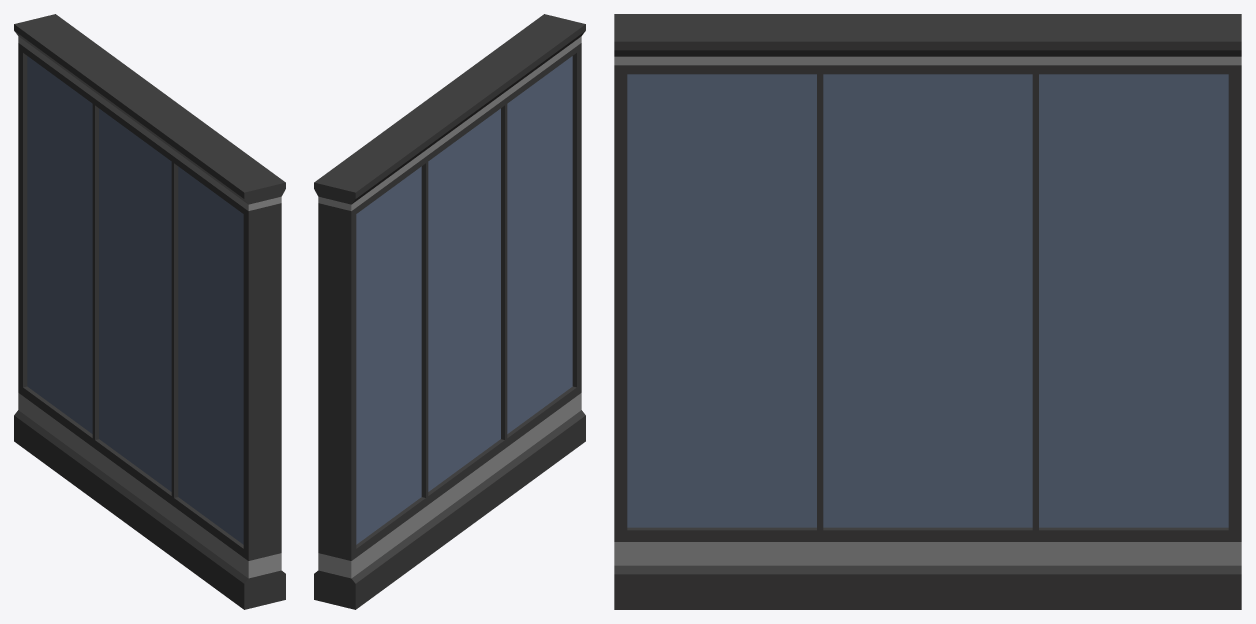
File: Neo_WallWindow_03_snaps001.fbx
3 views of the same model, side by side, from view 1: azimuth 30°, elevation 25°; view 2: azimuth 150°, elevation 25°; view 3: azimuth 270°, elevation 25° (orthographic). The views are drawn at different scales.
Parts seen in each view (by area): view 1: Neo_WallWindow_03_snaps001; view 2: Neo_WallWindow_03_snaps001; view 3: Neo_WallWindow_03_snaps001.
Boxes of the visible parts, x1,y1,x2,y2 form: Neo_WallWindow_03_snaps001: (14, 14, 285, 609); Neo_WallWindow_03_snaps001: (314, 14, 585, 609); Neo_WallWindow_03_snaps001: (614, 14, 1241, 609).
Size of the model in its own units: 31.25 by 300 by 300.
